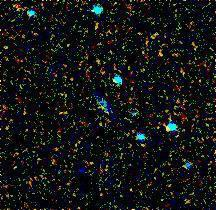star: (1, 154, 31, 184)
